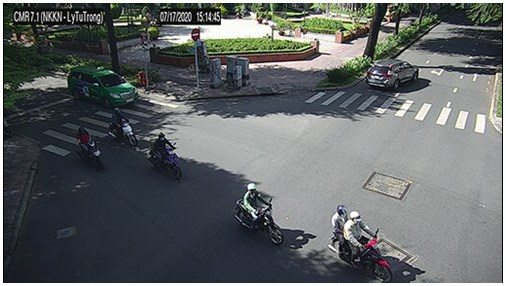xe_hoi: (366, 58, 419, 90)
xe_may: (327, 204, 394, 282), (234, 183, 286, 245), (147, 132, 183, 180), (77, 127, 104, 171), (108, 108, 138, 147)
xe_taxi: (68, 65, 138, 107)
